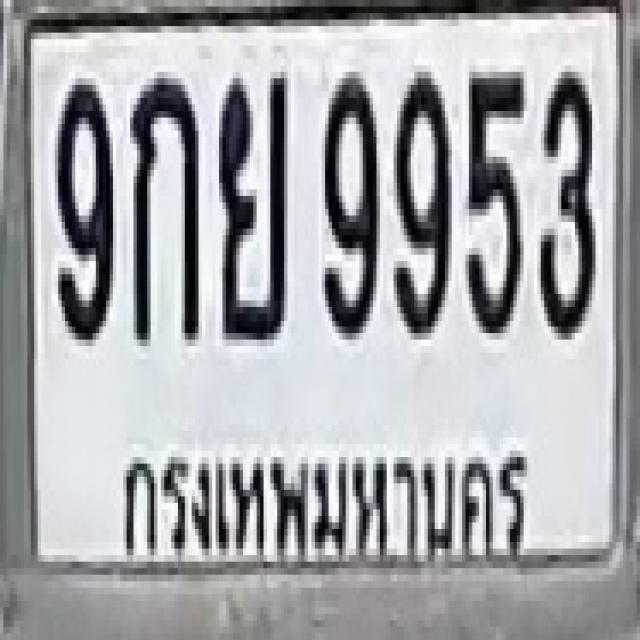-: (128, 72, 197, 340), (216, 68, 284, 336)
3: (537, 65, 592, 333)
5: (462, 65, 520, 333)
9: (391, 65, 448, 333), (54, 75, 110, 336), (322, 72, 376, 333)
